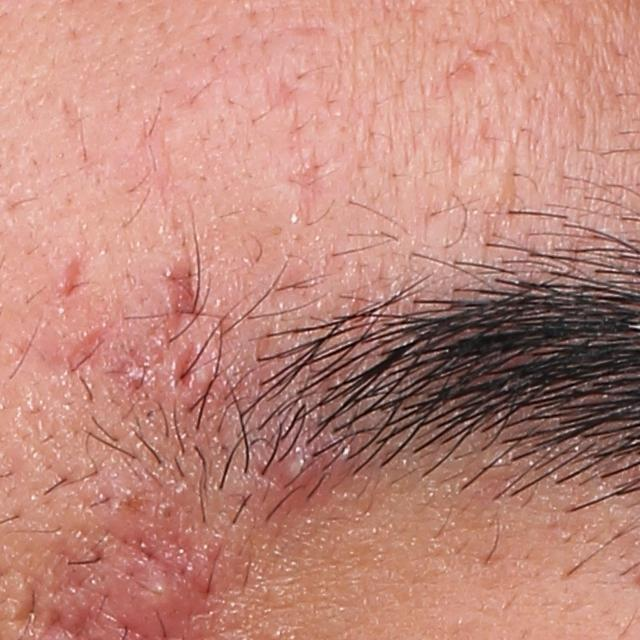atrophic_scar: (148, 240, 206, 337), (283, 153, 325, 224), (13, 572, 45, 638), (65, 253, 86, 299)
pustule: (123, 553, 180, 618)
